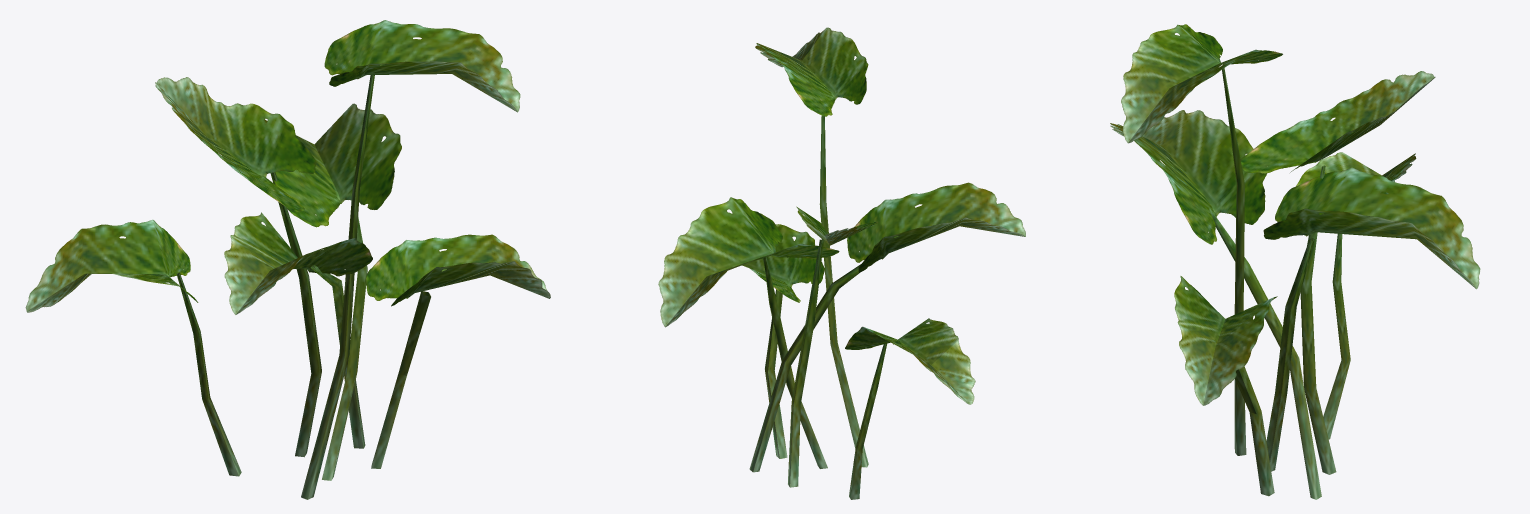
Rendered from S_Plant_Green015.FBX.
3 renders of one model, left to right at view 1: azimuth 30°, elevation 25°; view 2: azimuth 150°, elevation 25°; view 3: azimuth 270°, elevation 25°, orthographic. The views are drawn at different scales.
Visible parts, largest first — view 1: S_Plant_Green015; view 2: S_Plant_Green015; view 3: S_Plant_Green015.
Part boxes in pixels (x1,y1,x2,y2): S_Plant_Green015: (25, 20, 550, 499); S_Plant_Green015: (658, 27, 1025, 499); S_Plant_Green015: (1110, 24, 1480, 499).
Bounding box in the file's own units: 635 × 520 × 582.
